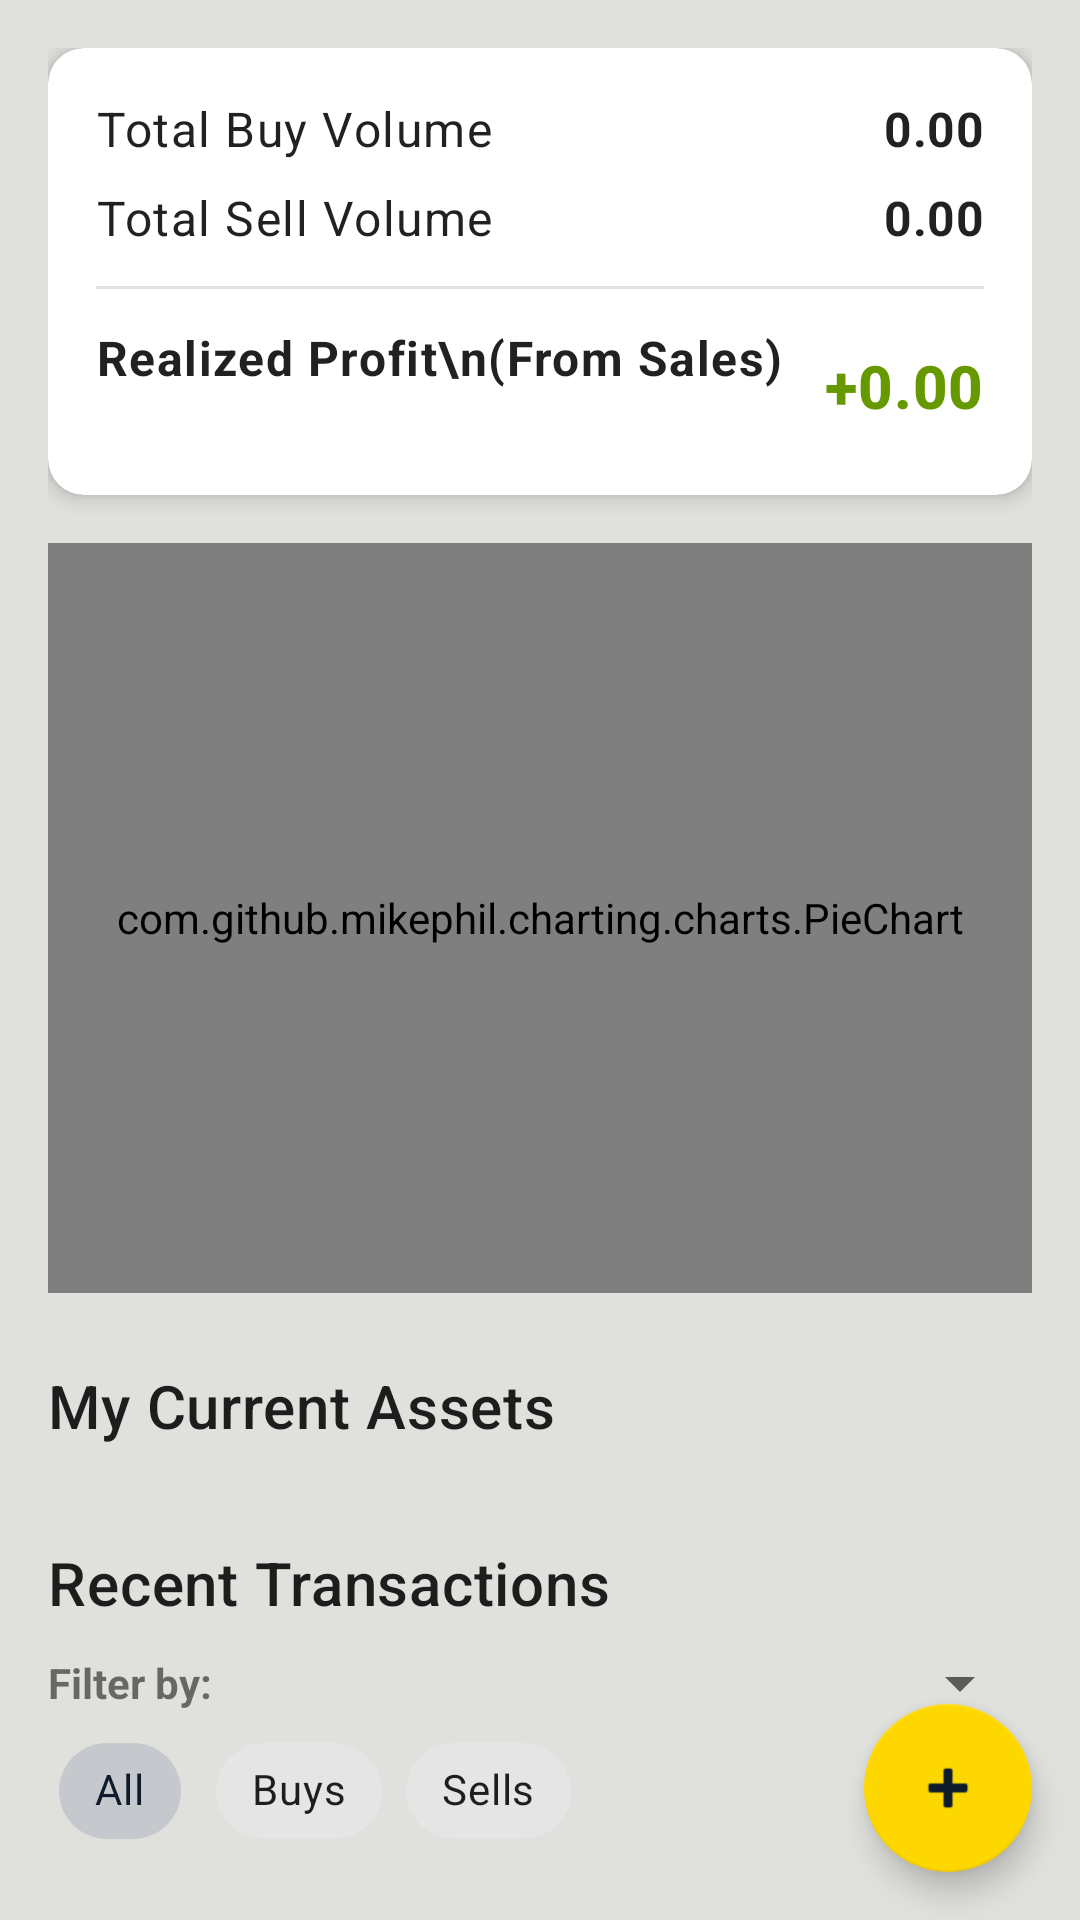

Icons on this 1080x1920 Android screen, each with the point to tap as [x,y]:
Add Transaction: [948,1788]
